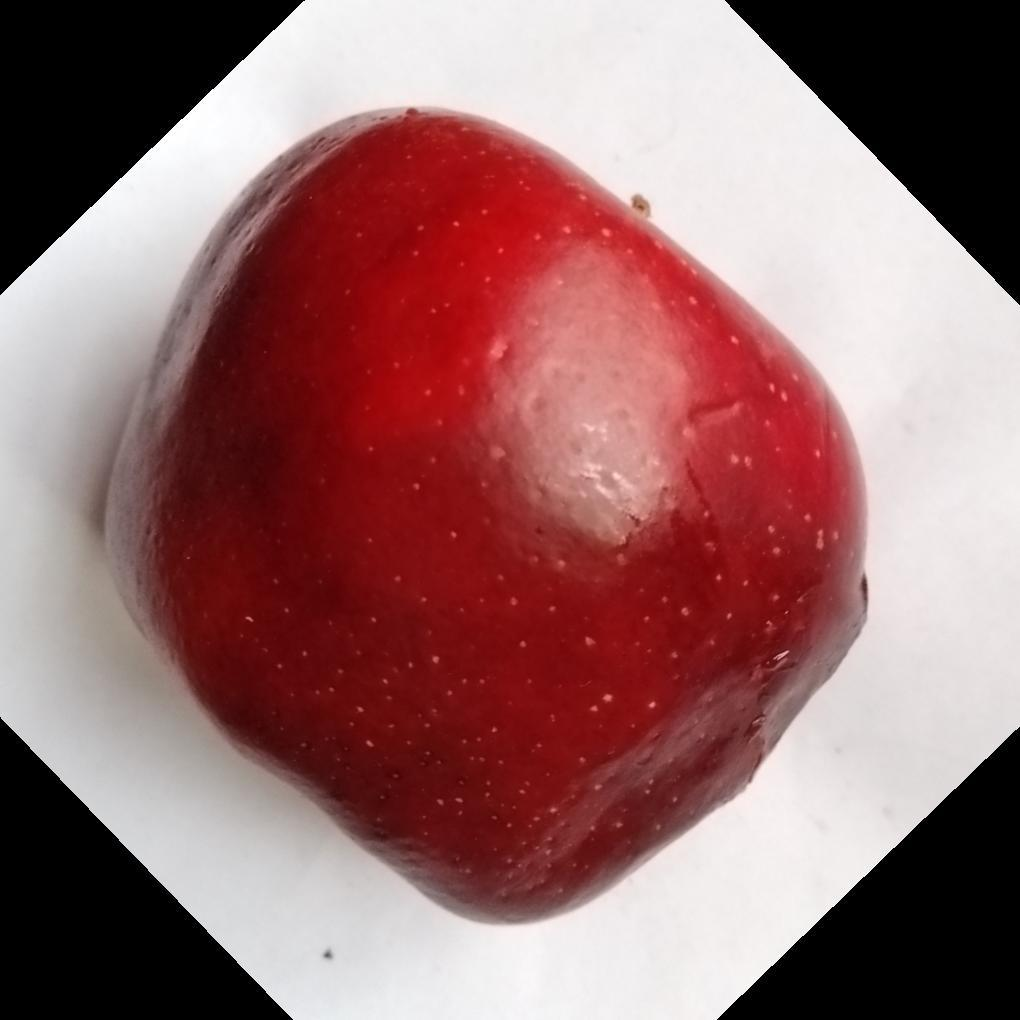FreshOrange: (97, 107, 870, 930)
